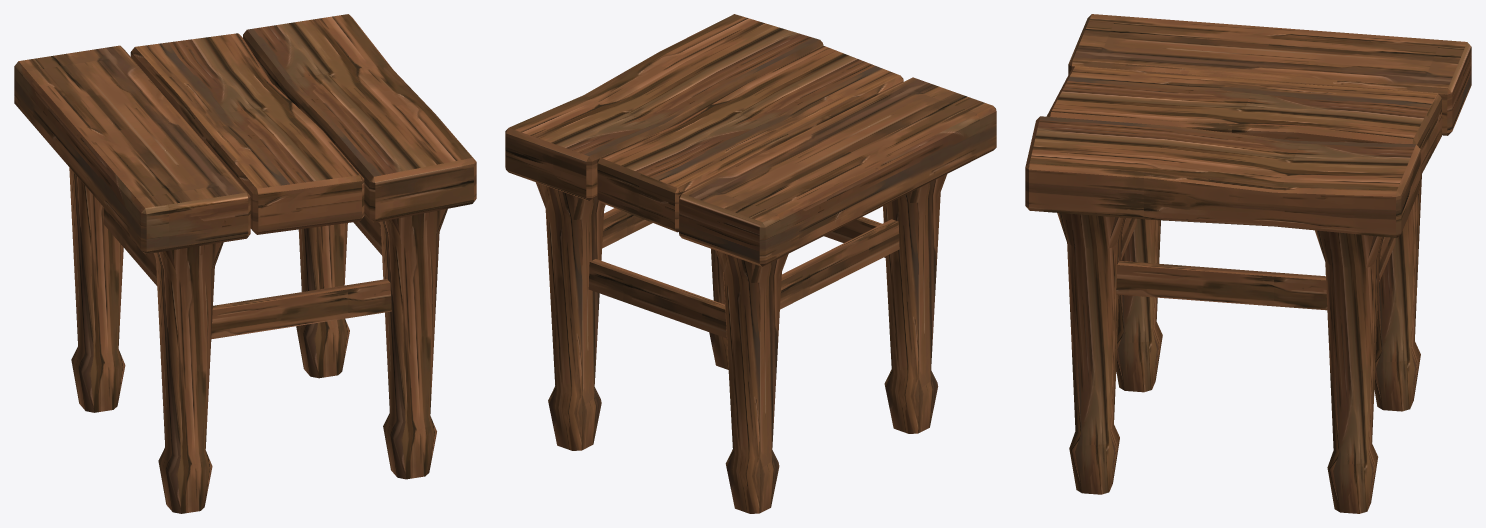
File: Stool_1.fbx
3 renders of one model, left to right at view 1: azimuth 30°, elevation 25°; view 2: azimuth 150°, elevation 25°; view 3: azimuth 270°, elevation 25°, orthographic. The views are drawn at different scales.
Visible parts, largest first — view 1: 1_Stool_1; view 2: 1_Stool_1; view 3: 1_Stool_1.
Boxes of the visible parts, bbox=[...] form: 1_Stool_1: bbox=[14, 14, 476, 513]; 1_Stool_1: bbox=[505, 14, 996, 513]; 1_Stool_1: bbox=[1025, 14, 1471, 513].
Size of the model in its own units: 40.41 by 35.43 by 42.28.
